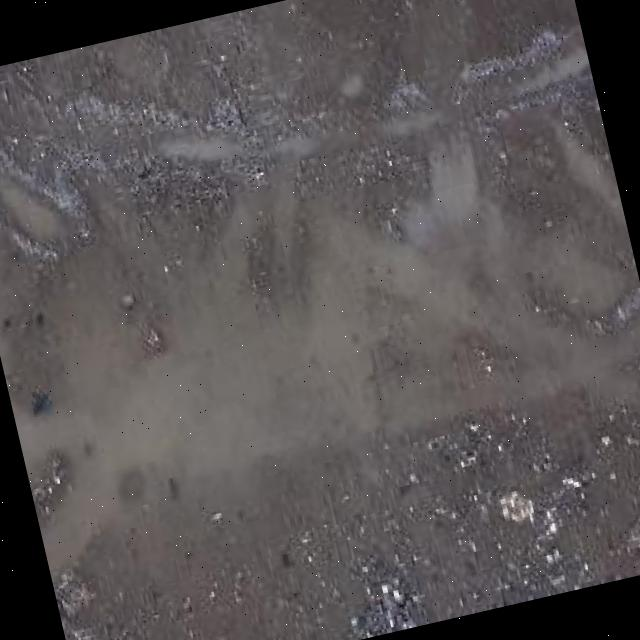waterlogging: (0, 176, 331, 587)
